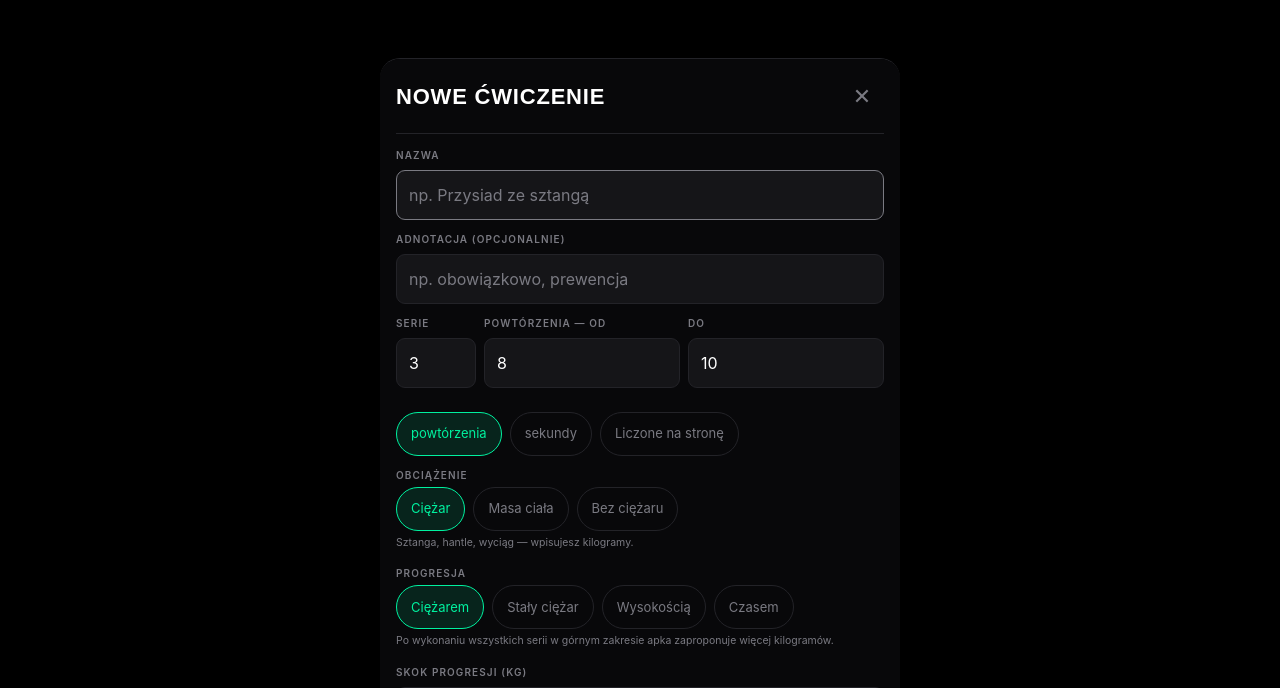
Test: refuses a reversed repetition range
In the field labelled "Nazwa": (640, 195) x1=396 y1=170 x2=884 y2=220, type "Wiosłowanie"
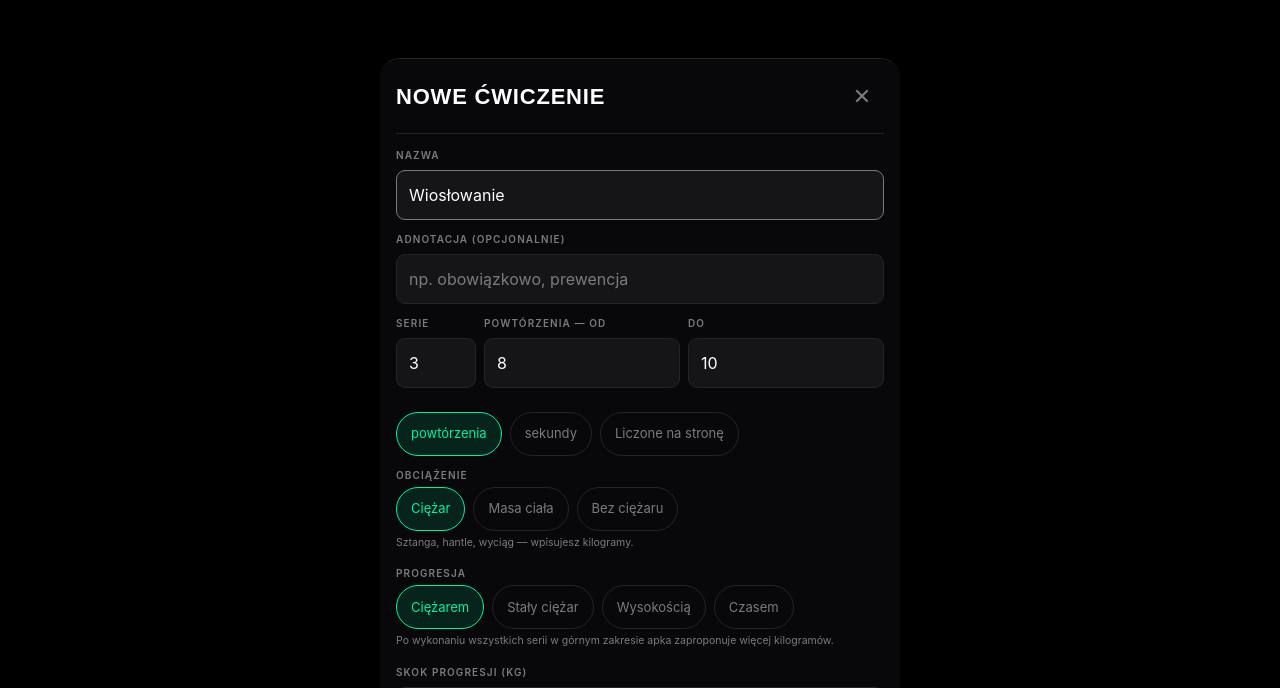
Replace the text in the number field labelled "do" with "2": (786, 363) x1=688 y1=338 x2=884 y2=388
(page scrolled)
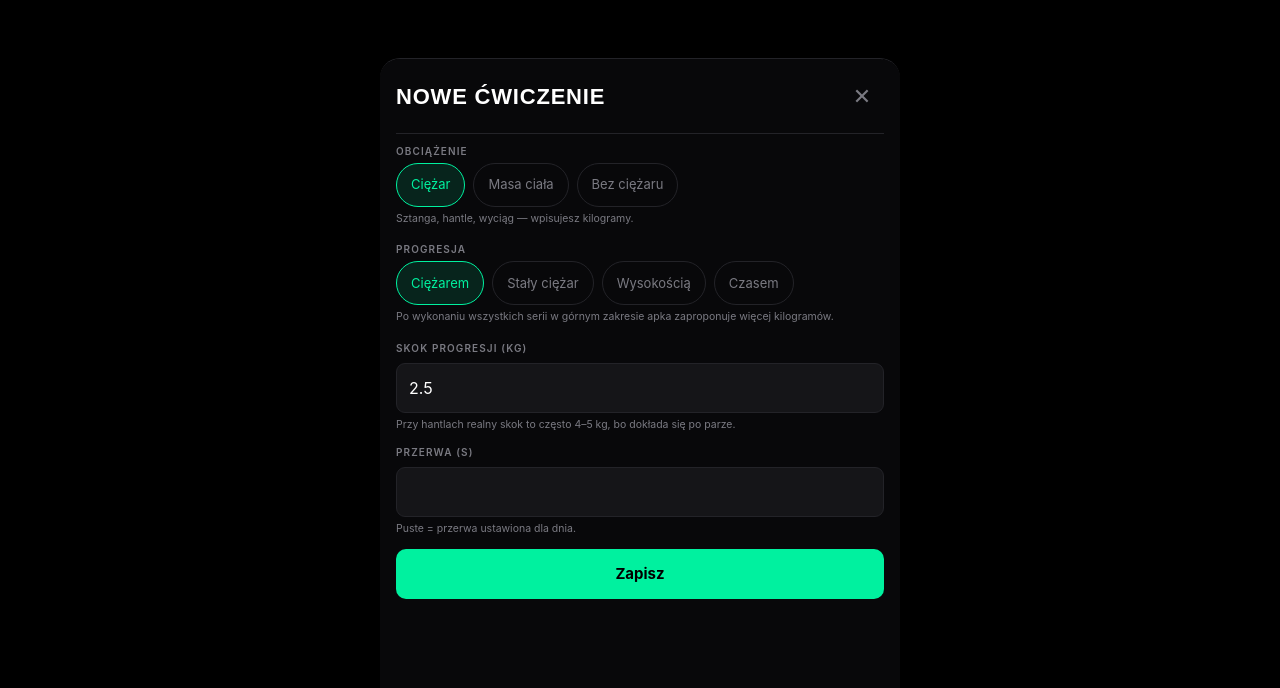
Click the button "Zapisz": (640, 574) x1=396 y1=549 x2=884 y2=599
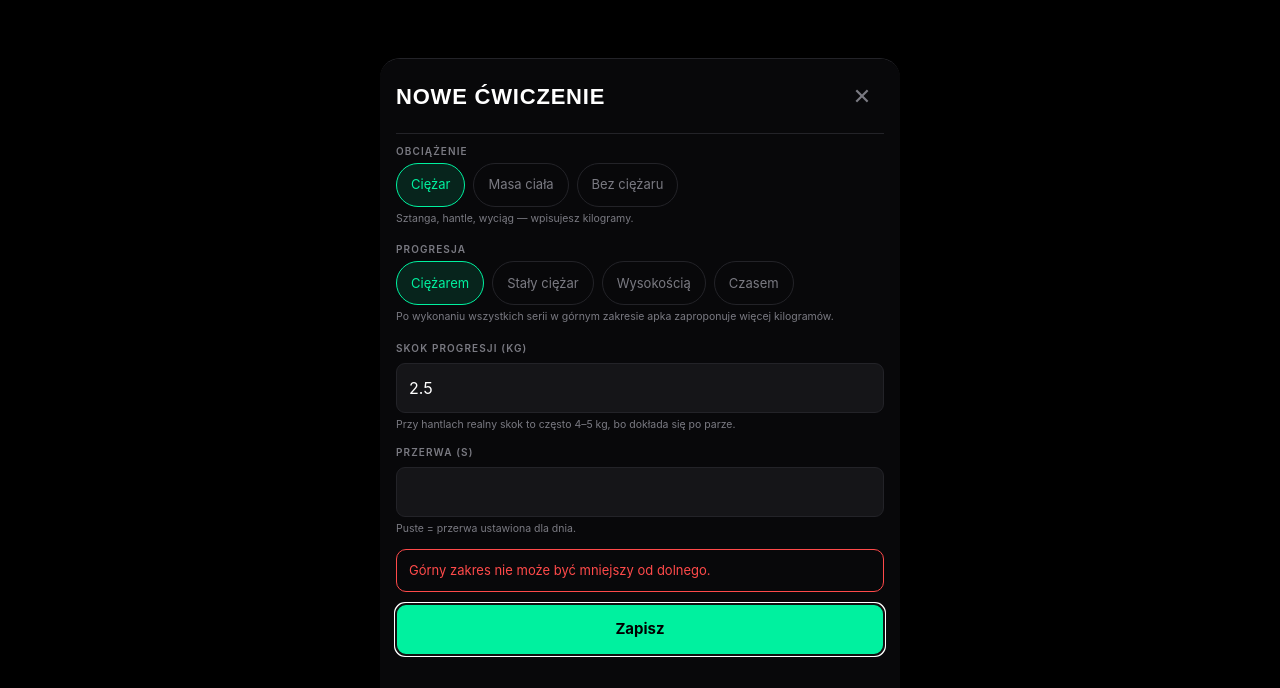
Expected: the message shows "zakres", x1=409 y1=562 x2=711 y2=578
